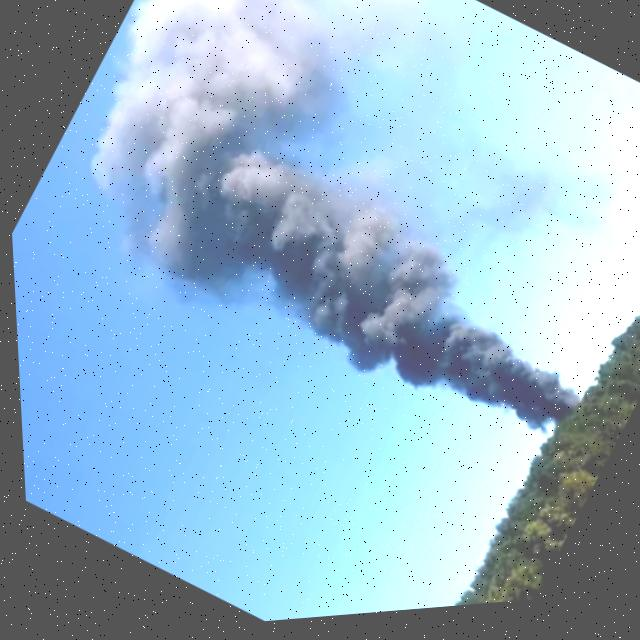Smoke: (21, 0, 640, 514)
